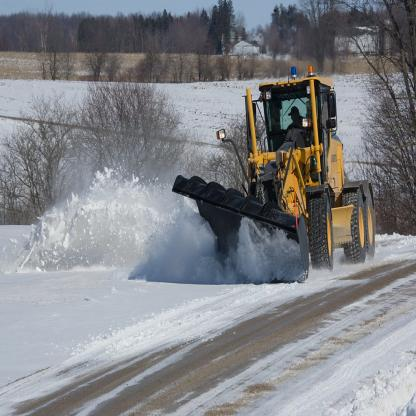bull_dozer/loader/grader: (196, 60, 403, 300)
